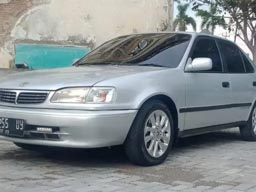plat: (1, 117, 25, 138)
